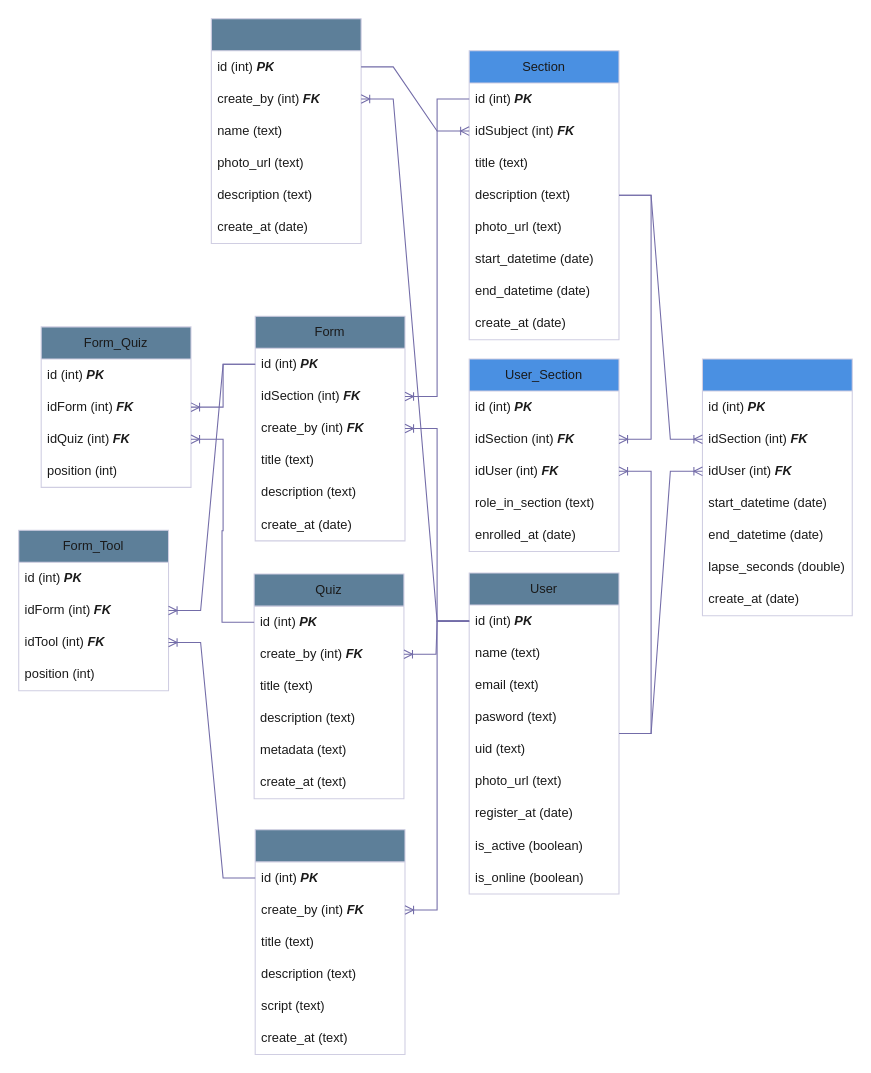
Image size: 871x1073. Some labels were removed from this diagram. Each missing label, with the box of its shape:
Subject: (210, 18, 361, 243)
Tool: (254, 829, 405, 1054)
User_Time: (701, 358, 852, 616)
